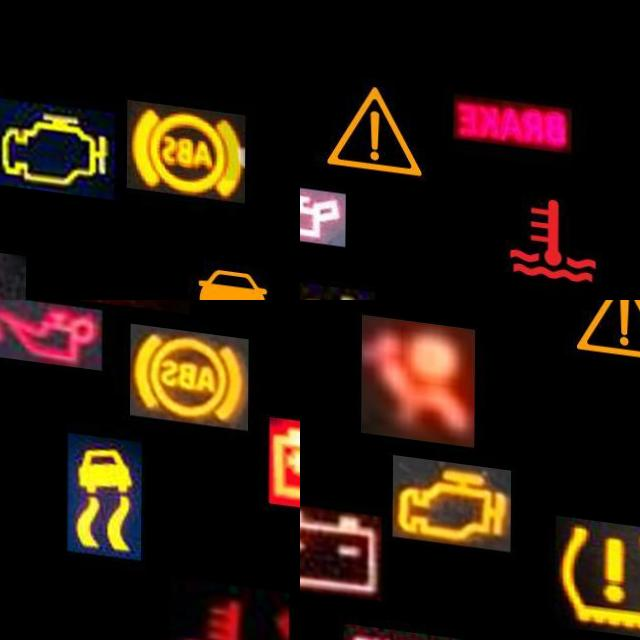Central Warning lamp: (316, 54, 434, 184), (565, 300, 640, 364)
Engine cooling system: (494, 159, 613, 290), (171, 566, 289, 640)
